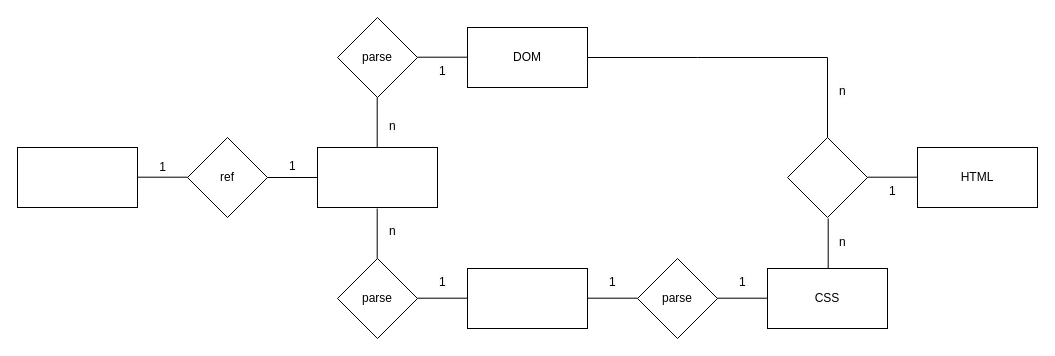
This 1055x356 diagram has some shape labels left out. Each missing label, with the centre of its shape:
"combine" goes at point 827,177.
"Element" goes at point 377,177.
"Less" goes at point 527,298.
"Template" goes at point 77,177.
